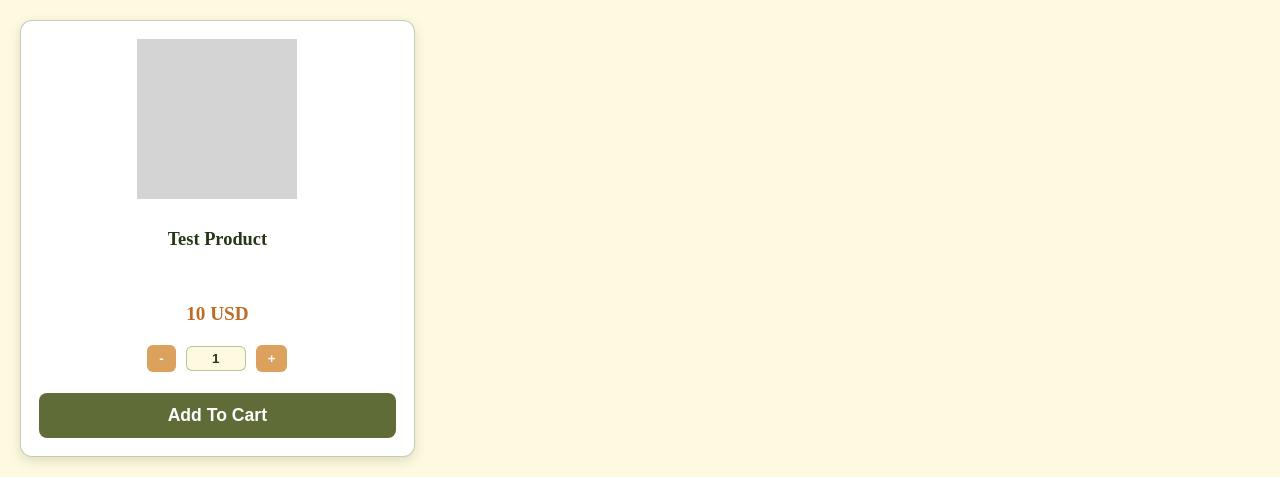
it: increments quantity
The image size is (1280, 494).
Click the button "+".
click(272, 359)  # box [256,345,288,372]
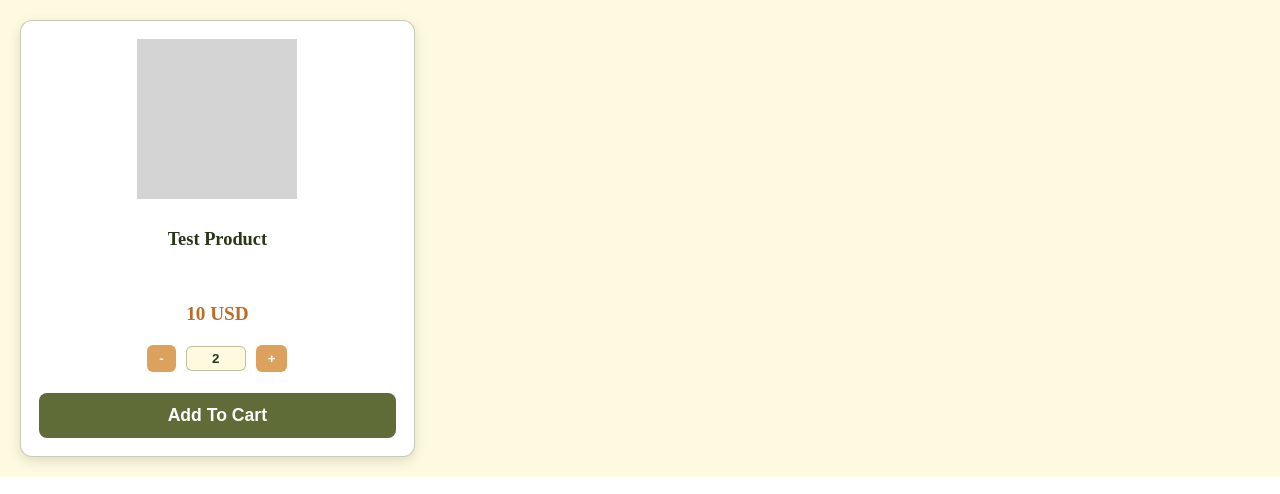
Expected: the number field holds "2", [186,346,246,371]
